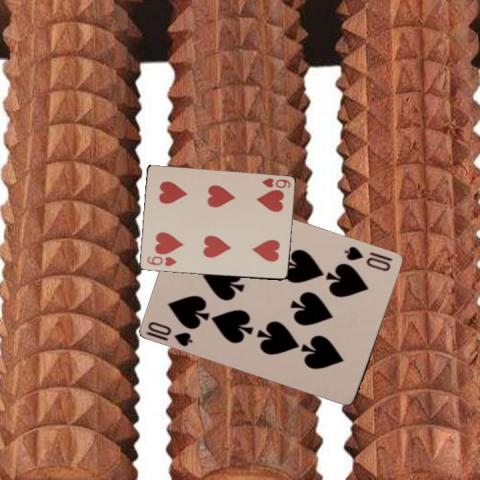10s: (145, 318, 195, 348), (342, 243, 392, 272)
6h: (144, 253, 178, 268), (259, 175, 291, 190)
